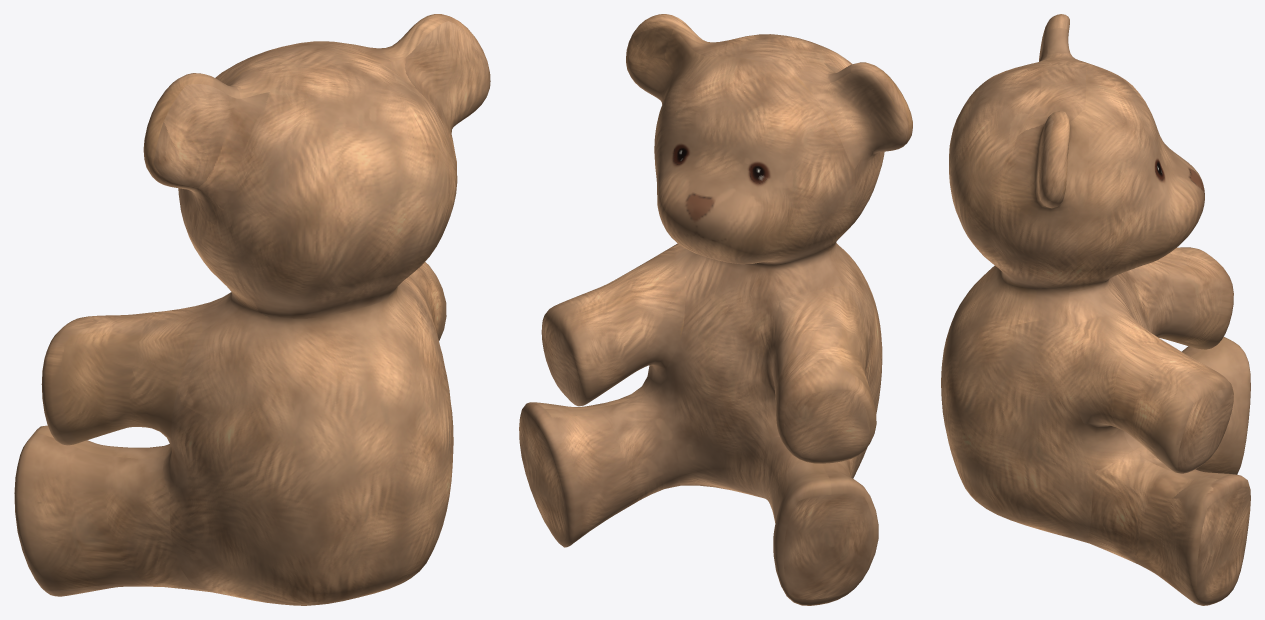
The model's file is teddybear.fbx.
3 views of the same model, side by side, from view 1: azimuth 30°, elevation 25°; view 2: azimuth 150°, elevation 25°; view 3: azimuth 270°, elevation 25° (orthographic). The views are drawn at different scales.
Parts seen in each view (by area): view 1: Teddy Bear; view 2: Teddy Bear; view 3: Teddy Bear.
Boxes of the visible parts, x1,y1,x2,y2 form: Teddy Bear: (14,14,490,605); Teddy Bear: (519,14,912,605); Teddy Bear: (941,14,1250,605).
Size of the model in its own units: 210 by 268 by 158.
